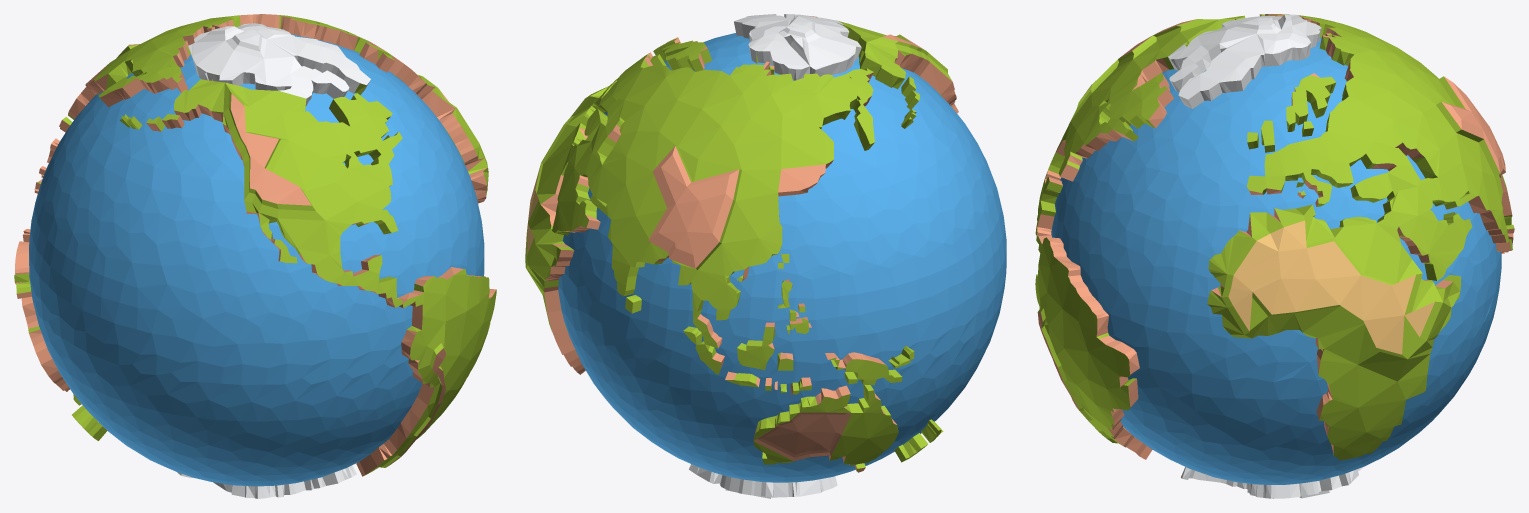
Rendered from earth.glb.
3 renders of one model, left to right at view 1: azimuth 30°, elevation 25°; view 2: azimuth 150°, elevation 25°; view 3: azimuth 270°, elevation 25°, orthographic.
Parts seen in each view (by area): view 1: Object; view 2: Object; view 3: Object.
Part boxes in pixels (left/top/right/bottom): Object: left=14, top=14, right=496, bottom=498; Object: left=525, top=14, right=1006, bottom=498; Object: left=1035, top=14, right=1514, bottom=498.
Bounding box in the file's own units: 2.09 × 2.23 × 2.09.
1 material, 1 textured.
